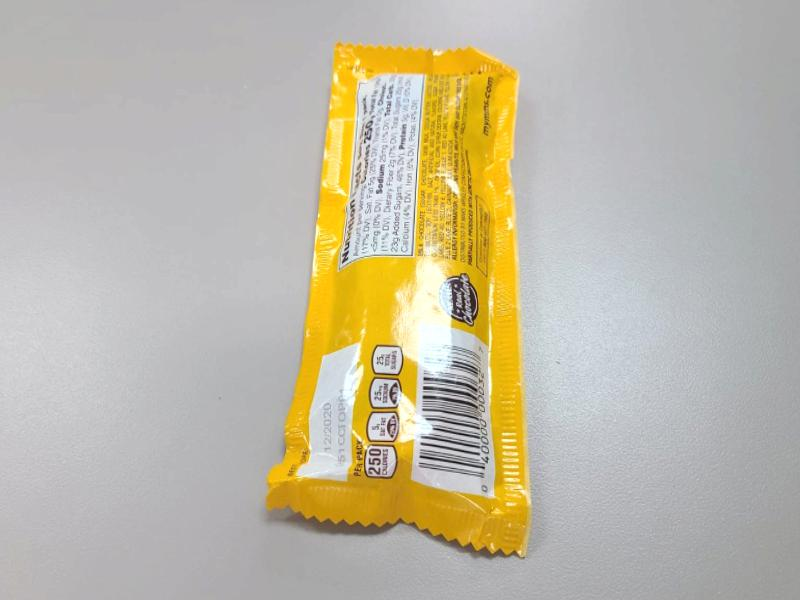m&m: (290, 0, 530, 519)
